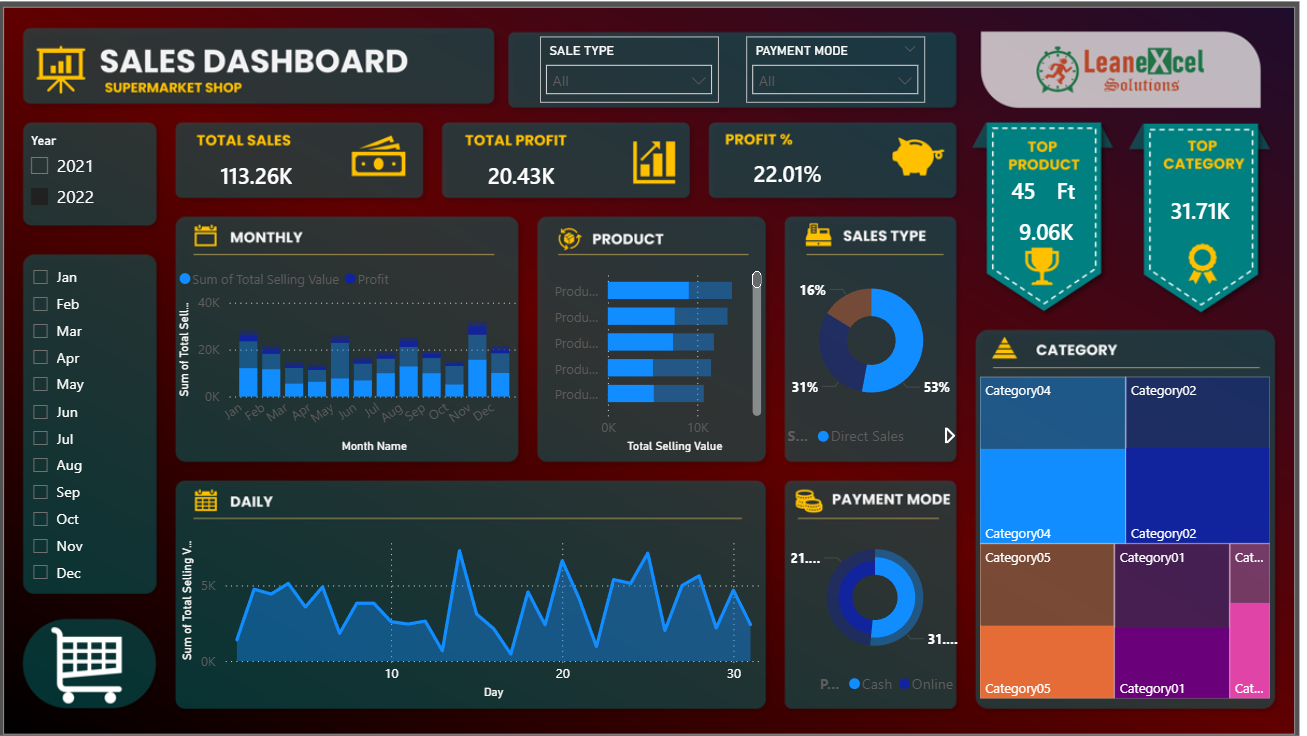

This screenshot's page, from the dashboard's own definition file:
{"tool":"powerbi","page":{"name":"Sales Dashboard","canvas":[1280,720],"ordinal":0},"visuals":[{"type":"slicer","fields":{"Values":["InputData.Year"]},"box":[58.1,133.7,129.1,87.2],"z":0},{"type":"slicer","fields":{"Values":["InputData.PAYMENT MODE"]},"box":[731.4,49.4,166,61.7],"z":1000},{"type":"slicer","fields":{"Values":["InputData.Month Name"]},"box":[60.5,254.7,119.8,311.6],"z":2000},{"type":"columnChart","fields":{"Category":["InputData.Month Name"],"Y":["Sum(InputData.Total Selling Value)","InputData.Profit"]},"box":[203.5,254.7,316.3,186],"z":3000},{"type":"clusteredBarChart","fields":{"Y":["Sum(InputData.Total Selling Value)"],"Category":["InputData.MasterData.PRODUCT"]},"box":[540.7,254.7,204.7,186],"z":4000},{"type":"areaChart","fields":{"Y":["Sum(InputData.Total Selling Value)"],"Category":["InputData.Day"]},"box":[205.8,503.5,539.5,166.3],"z":5000},{"type":"donutChart","fields":{"Y":["Sum(InputData.Total Selling Value)"],"Category":["InputData.SALE TYPE"],"Series":["InputData.SALE TYPE"]},"box":[769.8,253.5,155.8,186],"z":6000},{"type":"donutChart","fields":{"Y":["Sum(InputData.Total Selling Value)"],"Category":["InputData.PAYMENT MODE"],"Series":["InputData.PAYMENT MODE"]},"box":[773.3,501.2,155.8,168.6],"z":7000},{"type":"treemap","fields":{"Group":["InputData.MasterData.CATEGORY"],"Details":["InputData.MasterData.CATEGORY"],"Values":["Sum(InputData.Total Selling Value)"]},"box":[948.8,360.5,269.8,309.3],"z":8000},{"type":"cardVisual","fields":{"Data":["Sum(InputData.Total Selling Value)"]},"box":[210.5,148.8,130.2,50],"z":9000},{"type":"cardVisual","fields":{"Data":["InputData.Profit"]},"box":[457,148.8,130.2,50],"z":10000},{"type":"cardVisual","fields":{"Data":["InputData.Profit %"]},"box":[704.7,147.7,130.2,50],"z":11000},{"type":"cardVisual","fields":{"Data":["Sum(InputData.QUANTITY)"]},"box":[948.2,163.3,83.7,49.4],"z":12000},{"type":"cardVisual","fields":{"Data":["Min(InputData.MasterData.UOM)"]},"box":[990.7,163.3,76.8,50.8],"z":13000},{"type":"cardVisual","fields":{"Data":["Sum(InputData.Total Selling Value)"]},"box":[1088.2,174.3,130.4,64.5],"z":14000},{"type":"cardVisual","fields":{"Data":["Sum(InputData.Total Selling Value)"]},"box":[945.5,201.7,130.4,50.8],"z":15000},{"type":"slicer","fields":{"Values":["InputData.SALE TYPE"]},"box":[539.3,49.4,166,61.7],"z":16000}]}

Visuals, with their boxes in screenshot pixels (x1, y1, x2, y2), scaled from the page's 1280x720 canvas onto the 1307x736 screenshot:
slicer - InputData.Year: pyautogui.locateOnScreen(59, 137, 191, 226)
slicer - InputData.PAYMENT MODE: pyautogui.locateOnScreen(747, 50, 916, 114)
slicer - InputData.Month Name: pyautogui.locateOnScreen(62, 260, 184, 579)
columnChart - InputData.Month Name x Sum(InputData.Total Selling Value): pyautogui.locateOnScreen(208, 260, 531, 450)
clusteredBarChart - Sum(InputData.Total Selling Value) x InputData.MasterData.PRODUCT: pyautogui.locateOnScreen(552, 260, 761, 450)
areaChart - Sum(InputData.Total Selling Value) x InputData.Day: pyautogui.locateOnScreen(210, 515, 761, 685)
donutChart - Sum(InputData.Total Selling Value) x InputData.SALE TYPE: pyautogui.locateOnScreen(786, 259, 945, 449)
donutChart - Sum(InputData.Total Selling Value) x InputData.PAYMENT MODE: pyautogui.locateOnScreen(790, 512, 949, 685)
treemap - InputData.MasterData.CATEGORY x InputData.MasterData.CATEGORY: pyautogui.locateOnScreen(969, 369, 1244, 685)
cardVisual - Sum(InputData.Total Selling Value): pyautogui.locateOnScreen(215, 152, 348, 203)
cardVisual - InputData.Profit: pyautogui.locateOnScreen(467, 152, 600, 203)
cardVisual - InputData.Profit %: pyautogui.locateOnScreen(720, 151, 853, 202)
cardVisual - Sum(InputData.QUANTITY): pyautogui.locateOnScreen(968, 167, 1054, 217)
cardVisual - Min(InputData.MasterData.UOM): pyautogui.locateOnScreen(1012, 167, 1090, 219)
cardVisual - Sum(InputData.Total Selling Value): pyautogui.locateOnScreen(1111, 178, 1244, 244)
cardVisual - Sum(InputData.Total Selling Value): pyautogui.locateOnScreen(965, 206, 1099, 258)
slicer - InputData.SALE TYPE: pyautogui.locateOnScreen(551, 50, 720, 114)
